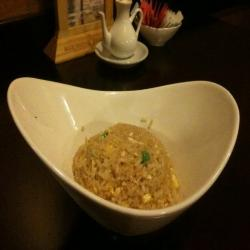rice: (70, 118, 192, 221)
